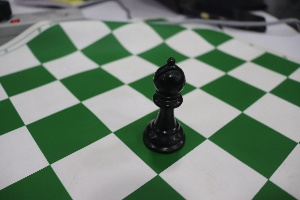black_bishop: (140, 50, 190, 158)
